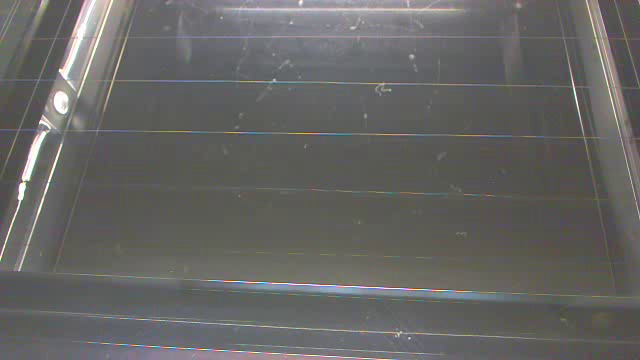alpha: (432, 147, 454, 168), (456, 228, 472, 246), (216, 144, 236, 158), (499, 165, 510, 177), (514, 1, 521, 9)
